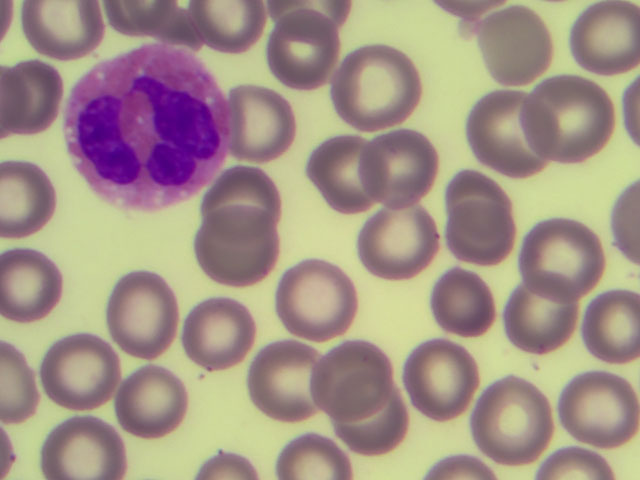Platelets: (454, 18, 480, 45)
RBC: (263, 12, 350, 90), (333, 46, 420, 124), (295, 134, 382, 212), (358, 128, 445, 206), (360, 199, 447, 277), (440, 181, 527, 259), (462, 96, 549, 174), (518, 76, 605, 154), (523, 214, 610, 292), (498, 275, 585, 353), (429, 262, 516, 340), (407, 332, 494, 410), (313, 338, 400, 416), (248, 346, 335, 424), (334, 387, 421, 465), (273, 260, 360, 338), (194, 215, 281, 293), (206, 158, 293, 236), (216, 80, 303, 158), (40, 328, 118, 407), (111, 275, 189, 354), (116, 365, 194, 444), (43, 401, 121, 480), (24, 1, 102, 79), (1, 59, 78, 138), (179, 297, 256, 374), (476, 383, 553, 460), (561, 370, 638, 447), (480, 8, 553, 83), (567, 1, 640, 75), (1, 242, 58, 324), (1, 160, 57, 237), (189, 1, 264, 58), (583, 298, 640, 363)
WBC: (63, 48, 234, 202)
